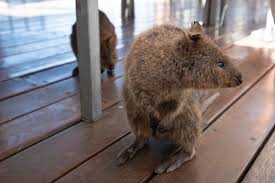quokka: (109, 18, 248, 173)
